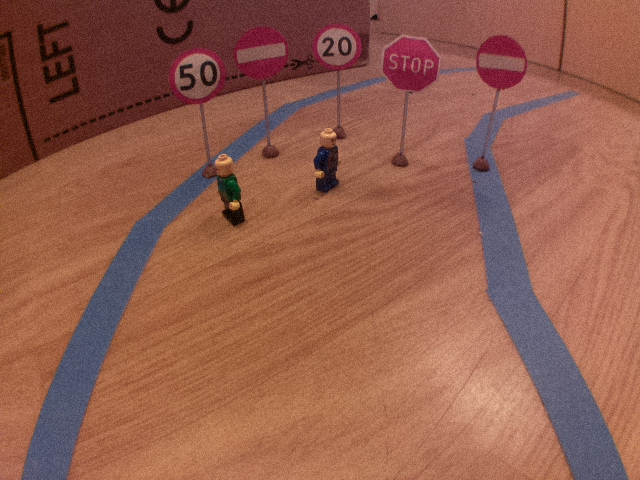LEGO_person: (212, 152, 247, 229), (312, 125, 344, 195)
ogr_20: (310, 21, 364, 70)
ogr_50: (168, 46, 227, 106)
stop: (379, 31, 442, 95)
zakaz: (231, 25, 291, 82), (474, 33, 529, 91)
